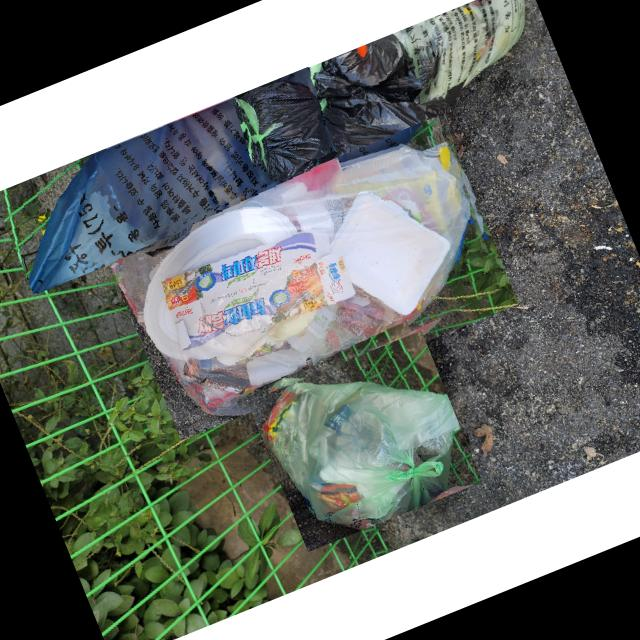other_trashbag: (111, 131, 473, 414), (28, 79, 279, 293), (262, 380, 459, 529), (314, 33, 442, 168), (246, 79, 331, 175)
